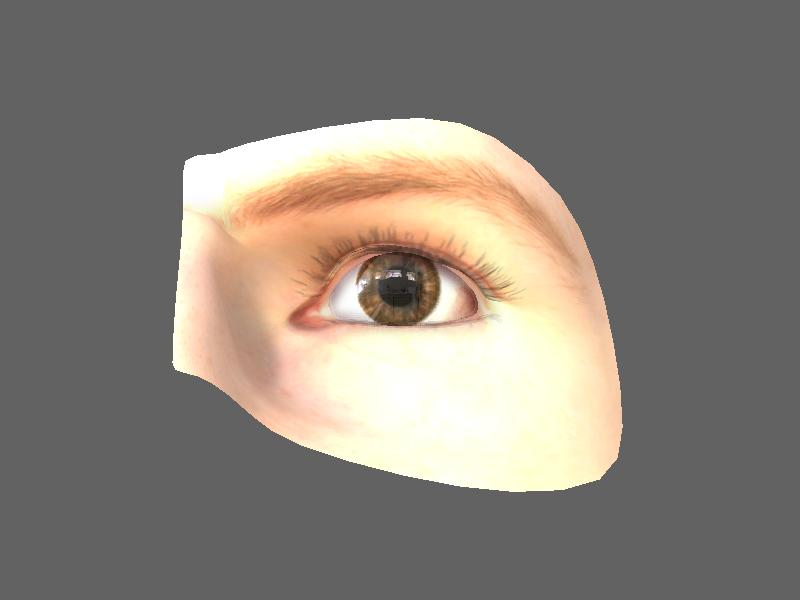iris: (356, 253, 446, 323)
